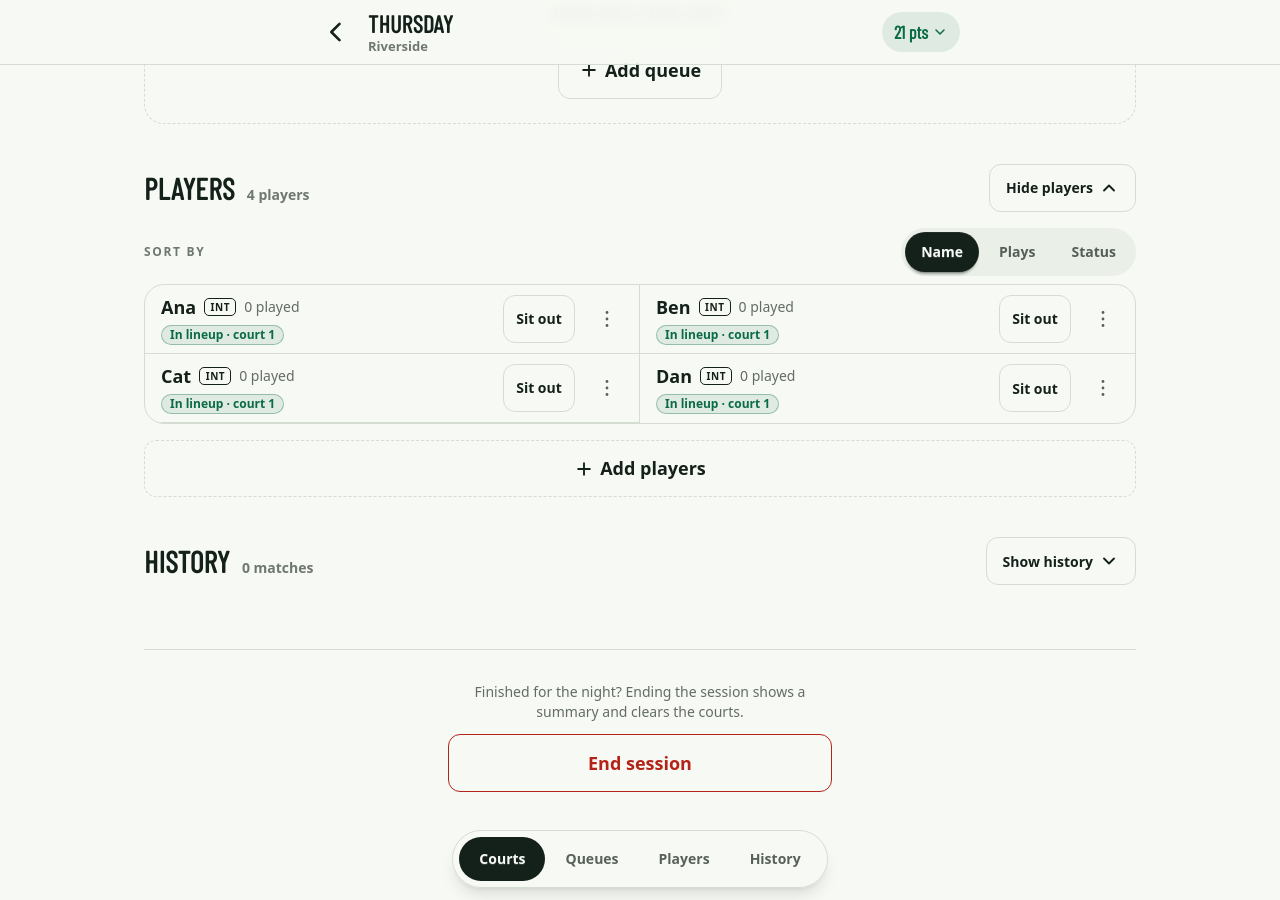
Test: Adding a player to a running Session of a Shared club › offline: Kim still joins, and a notice says she wasn't saved to the Club
(page scrolled)
Click the button "Add players".
click(640, 469)  # box [144, 440, 1136, 497]
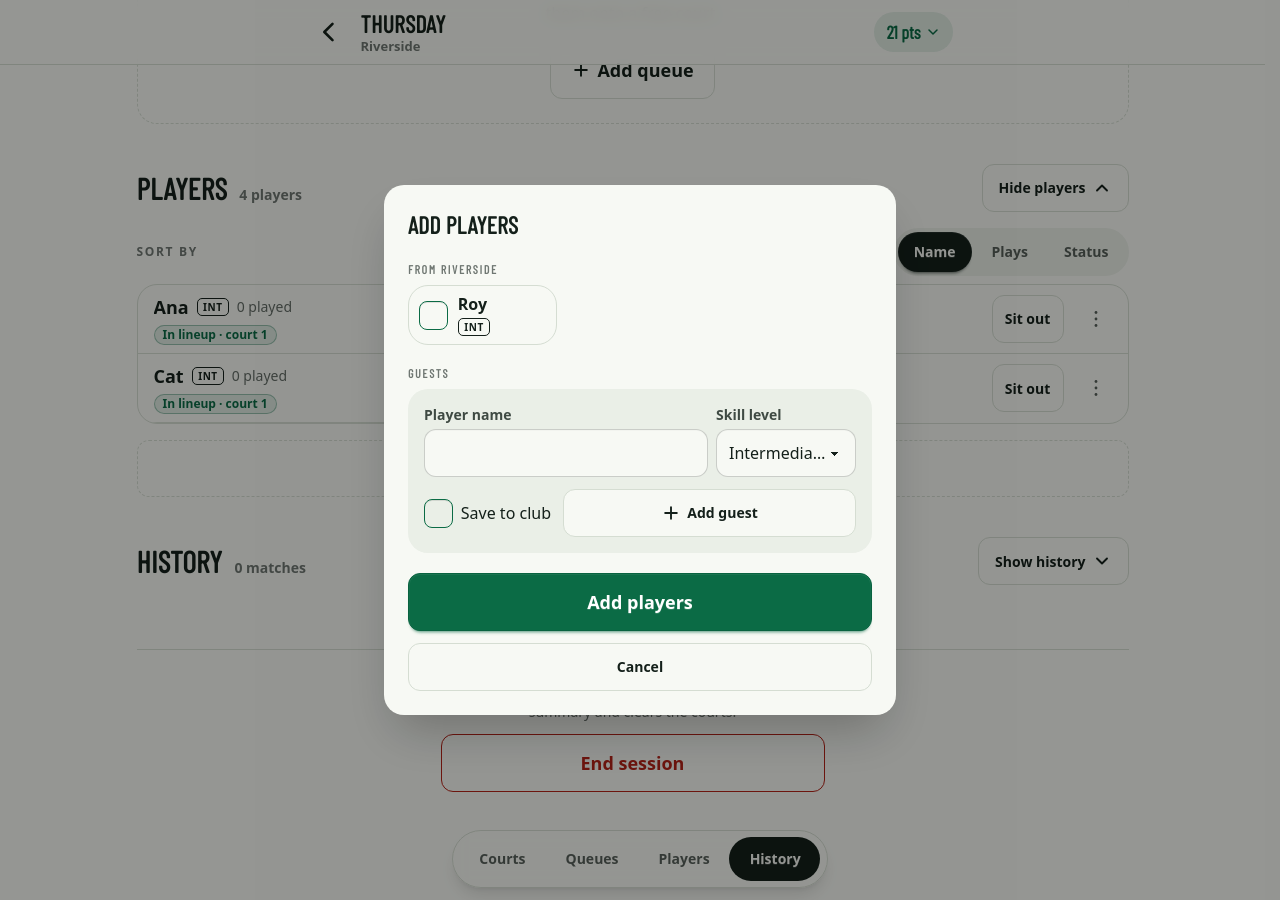
Type "Kim" into the field labelled "Player name".
click(566, 453); type("Kim")  # box [424, 429, 708, 477]
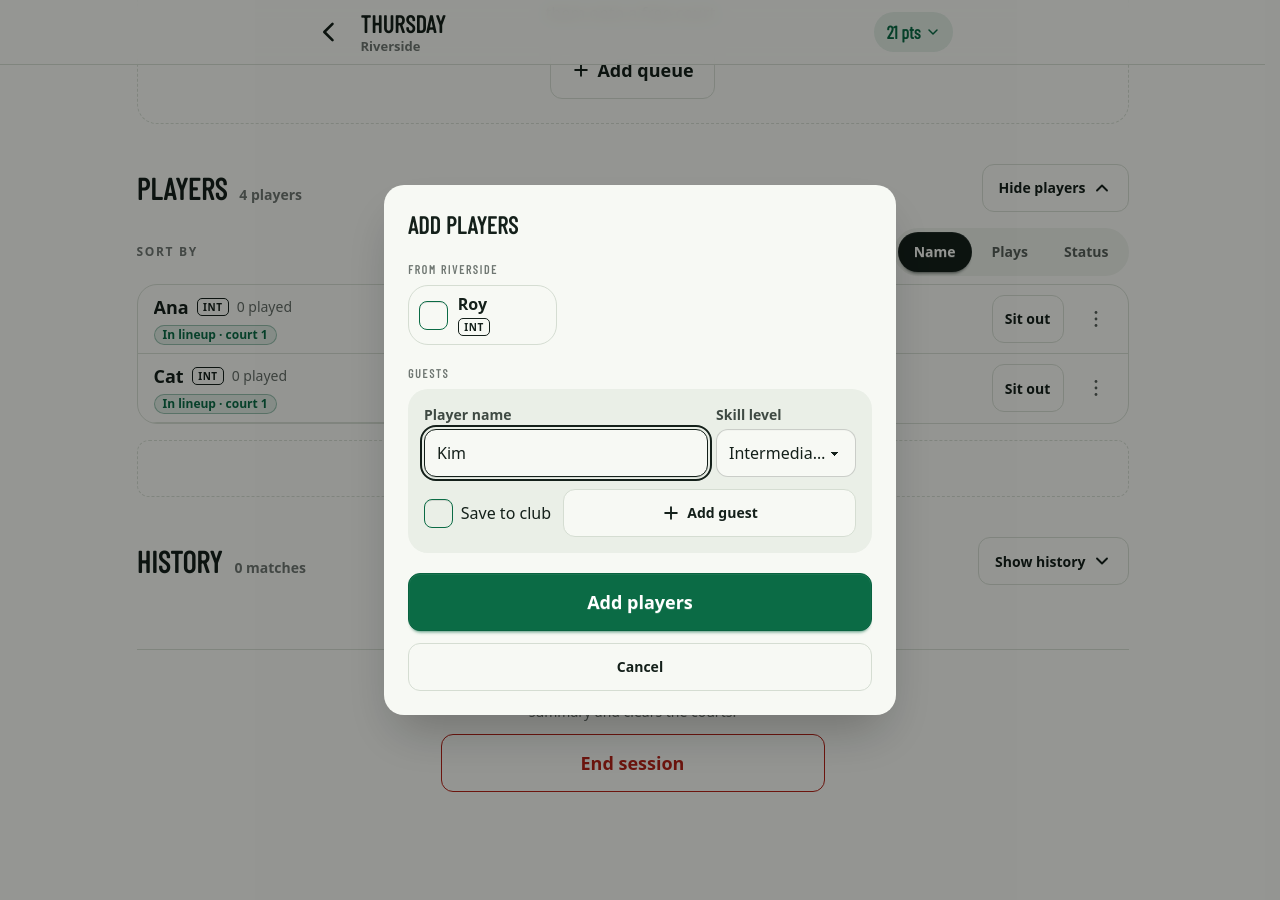
Click the checkbox labelled "Save to club".
click(438, 513)  # box [424, 499, 453, 528]
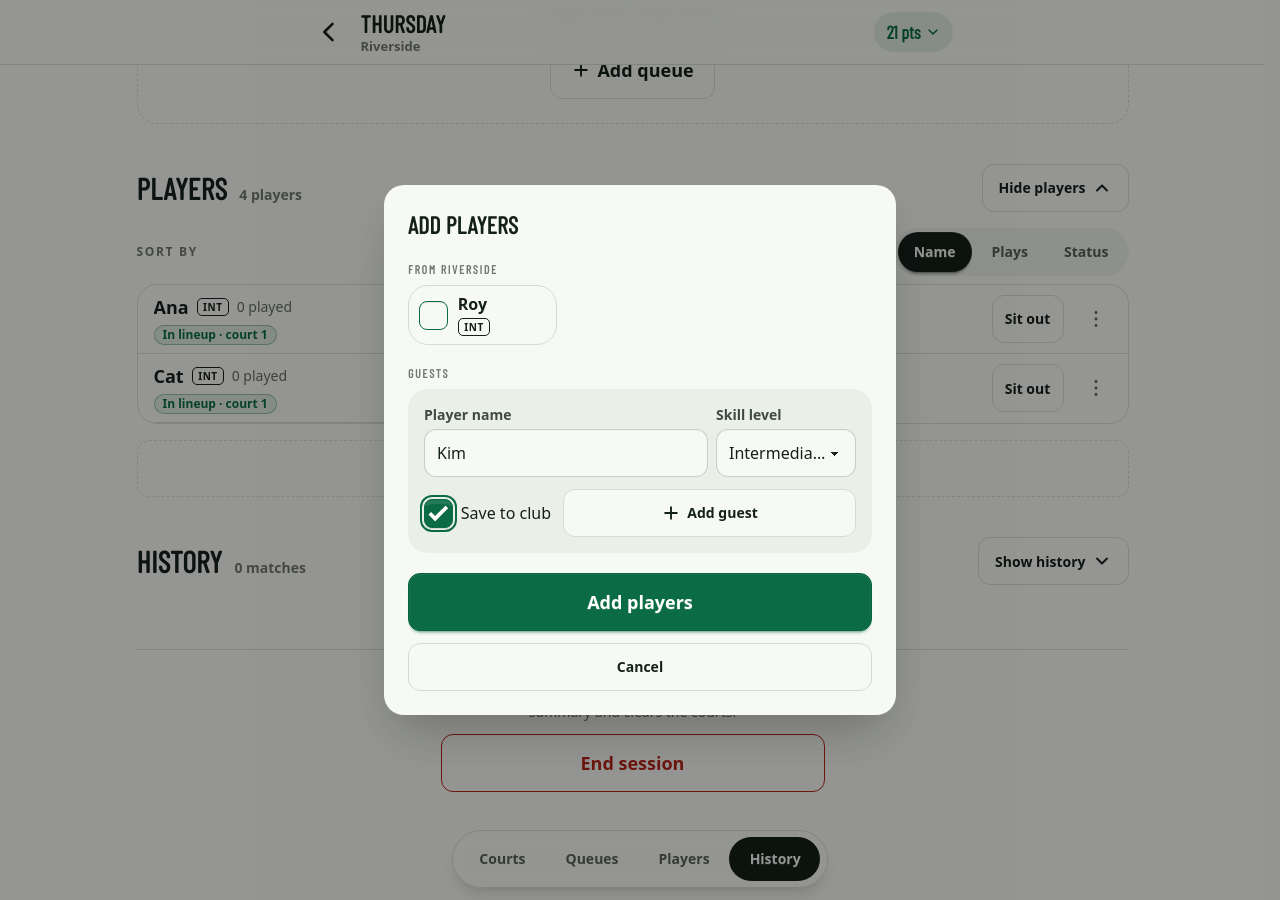
Click the button "Add guest".
click(710, 513)  # box [563, 489, 856, 537]
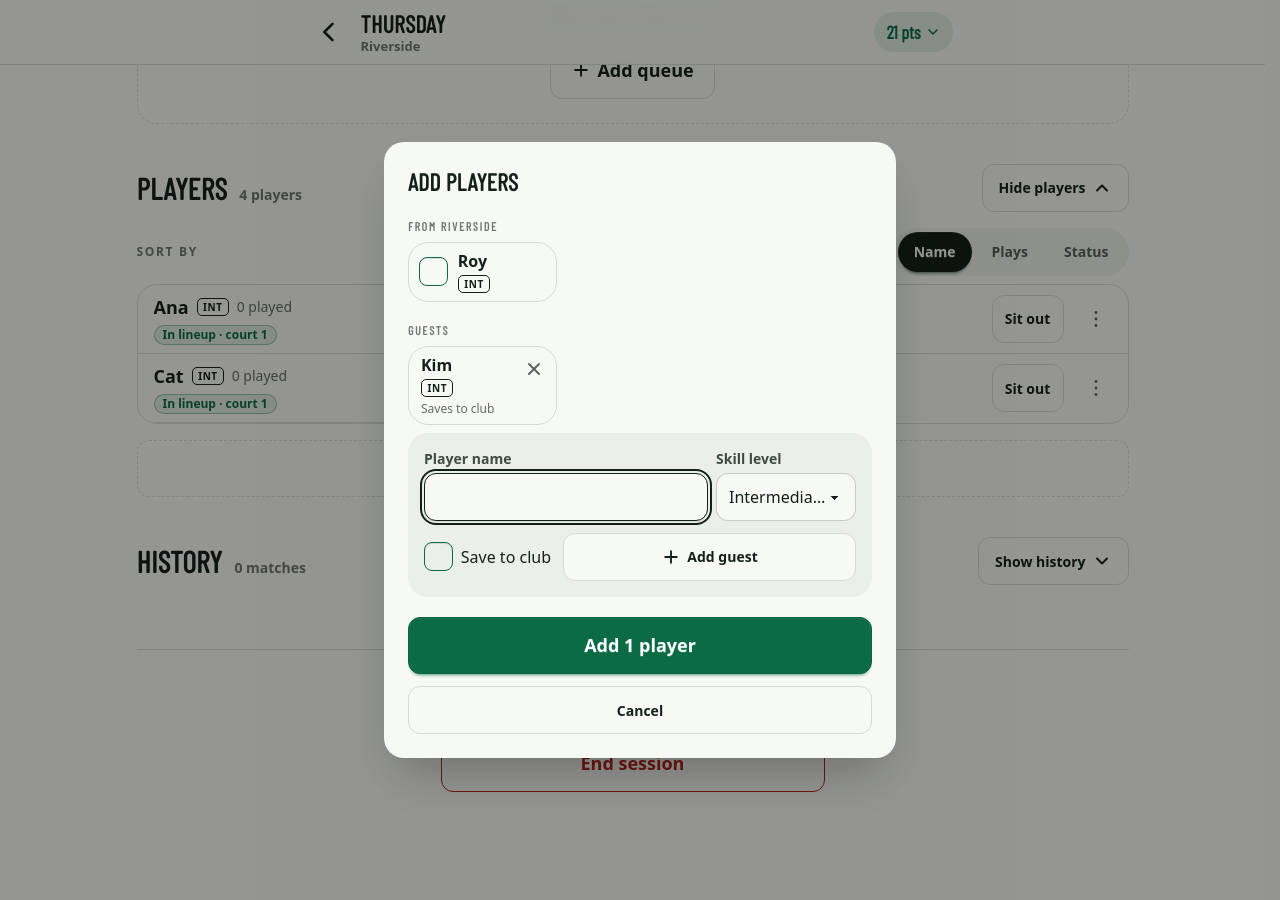
Click the button "Add 1 player".
click(640, 646)  # box [408, 617, 872, 674]
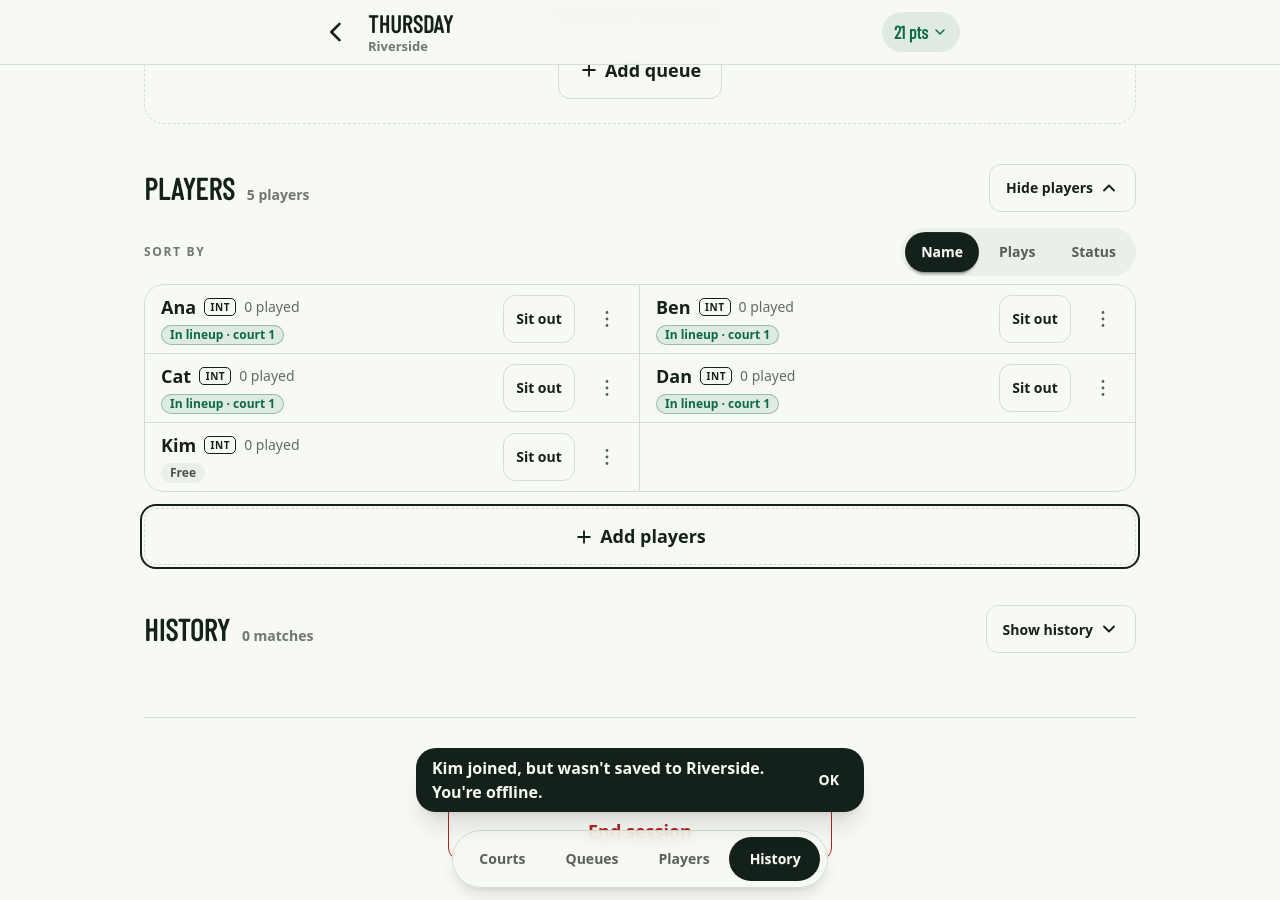
Expected: the text "Kim joined, but wasn't saved to Riverside. You're offline." is shown, [432, 756, 794, 804]
